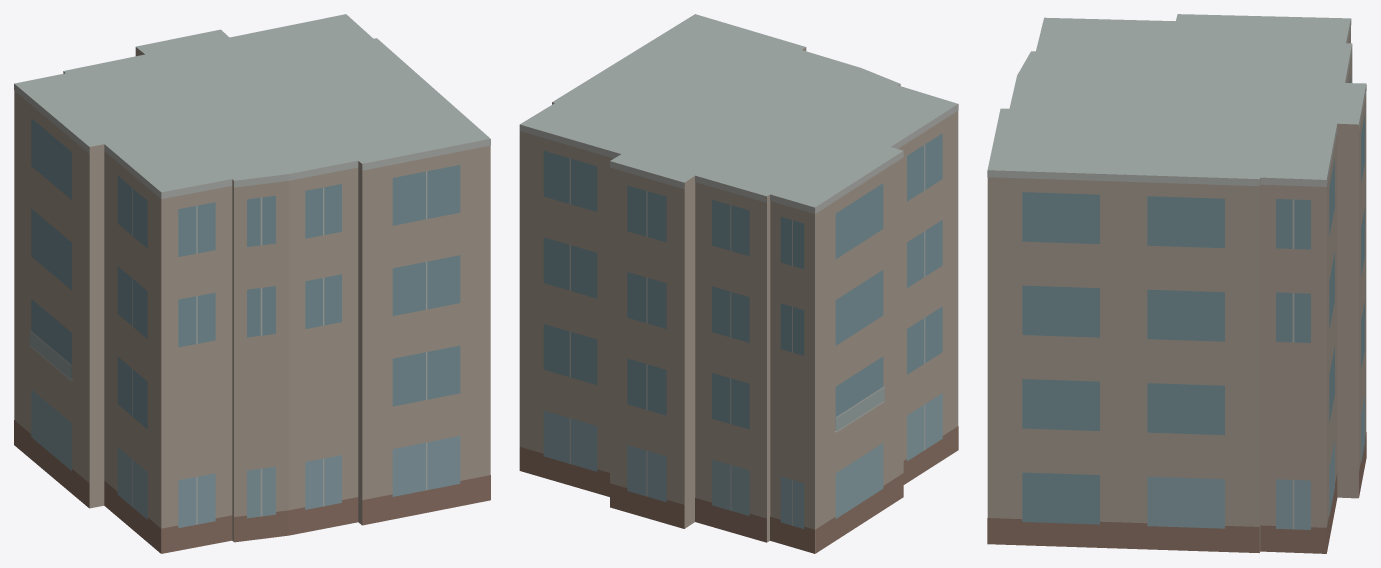
File: survey-upis-32672121.glb
3 renders of one model, left to right at view 1: azimuth 30°, elevation 25°; view 2: azimuth 150°, elevation 25°; view 3: azimuth 270°, elevation 25°, orthographic. The views are drawn at different scales.
Parts seen in each view (by area): view 1: survey-upis-32672121.tmp; view 2: survey-upis-32672121.tmp; view 3: survey-upis-32672121.tmp.
Boxes of the visible parts, x1,y1,x2,y2 form: survey-upis-32672121.tmp: [14, 14, 490, 553]; survey-upis-32672121.tmp: [519, 14, 958, 553]; survey-upis-32672121.tmp: [987, 14, 1366, 553].
Bounding box in the file's own units: 12.38 × 13 × 11.95.
